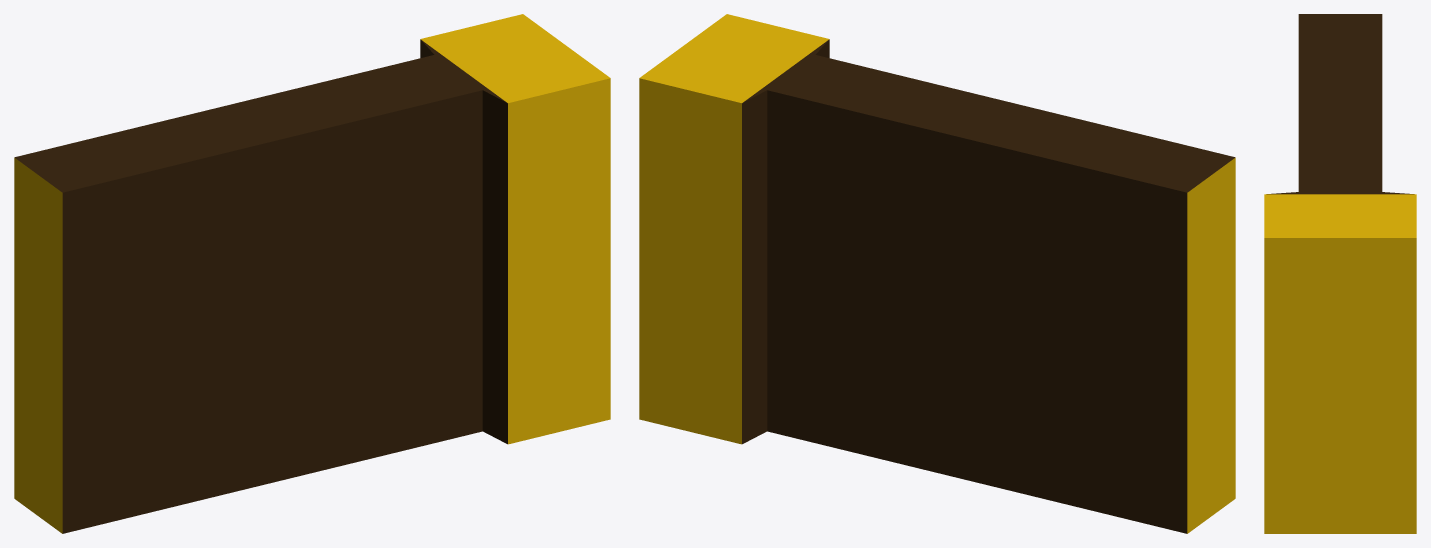
Rendered from SimpleCartridge.fbx.
3 views of the same model, side by side, from view 1: azimuth 30°, elevation 25°; view 2: azimuth 150°, elevation 25°; view 3: azimuth 270°, elevation 25° (orthographic). The views are drawn at different scales.
Visible parts, largest first — view 1: Cube.001; view 2: Cube.001; view 3: Cube.001.
Part boxes in pixels (left/top/right/bottom): Cube.001: left=14, top=14, right=610, bottom=533; Cube.001: left=639, top=14, right=1235, bottom=533; Cube.001: left=1264, top=14, right=1416, bottom=533.
Size of the model in its own units: 114 by 70.21 by 32.71.
